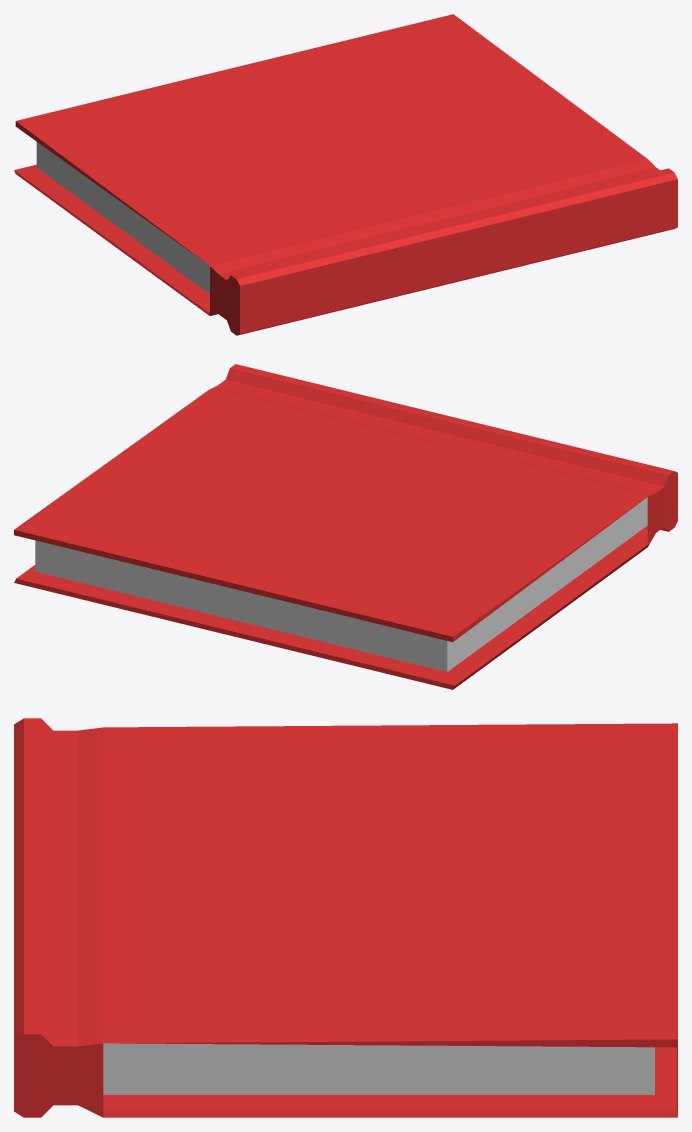
The model's file is Book.fbx.
The picture shows the model from 3 angles, top to bottom: view 1: azimuth 30°, elevation 25°; view 2: azimuth 150°, elevation 25°; view 3: azimuth 270°, elevation 25°; orthographic projection. The views are drawn at different scales.
Parts seen in each view (by area): view 1: Cube, Cube.001; view 2: Cube, Cube.001; view 3: Cube, Cube.001.
Boxes of the visible parts, <box> form: Cube: <box>14,14,677,335</box>; Cube.001: <box>36,142,209,293</box>; Cube: <box>14,364,677,689</box>; Cube.001: <box>35,497,647,671</box>; Cube: <box>14,718,677,1117</box>; Cube.001: <box>103,1043,654,1094</box>.
Bounding box in the file's own units: 180 × 22.13 × 159.
